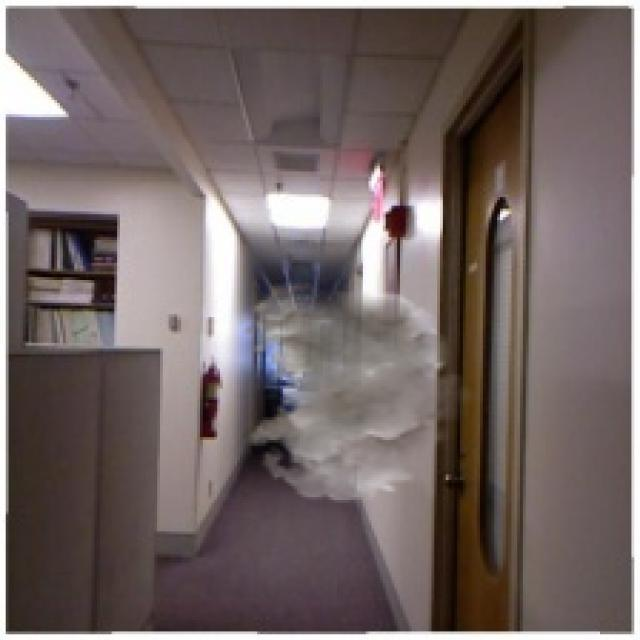Smoke: (242, 280, 478, 503)
